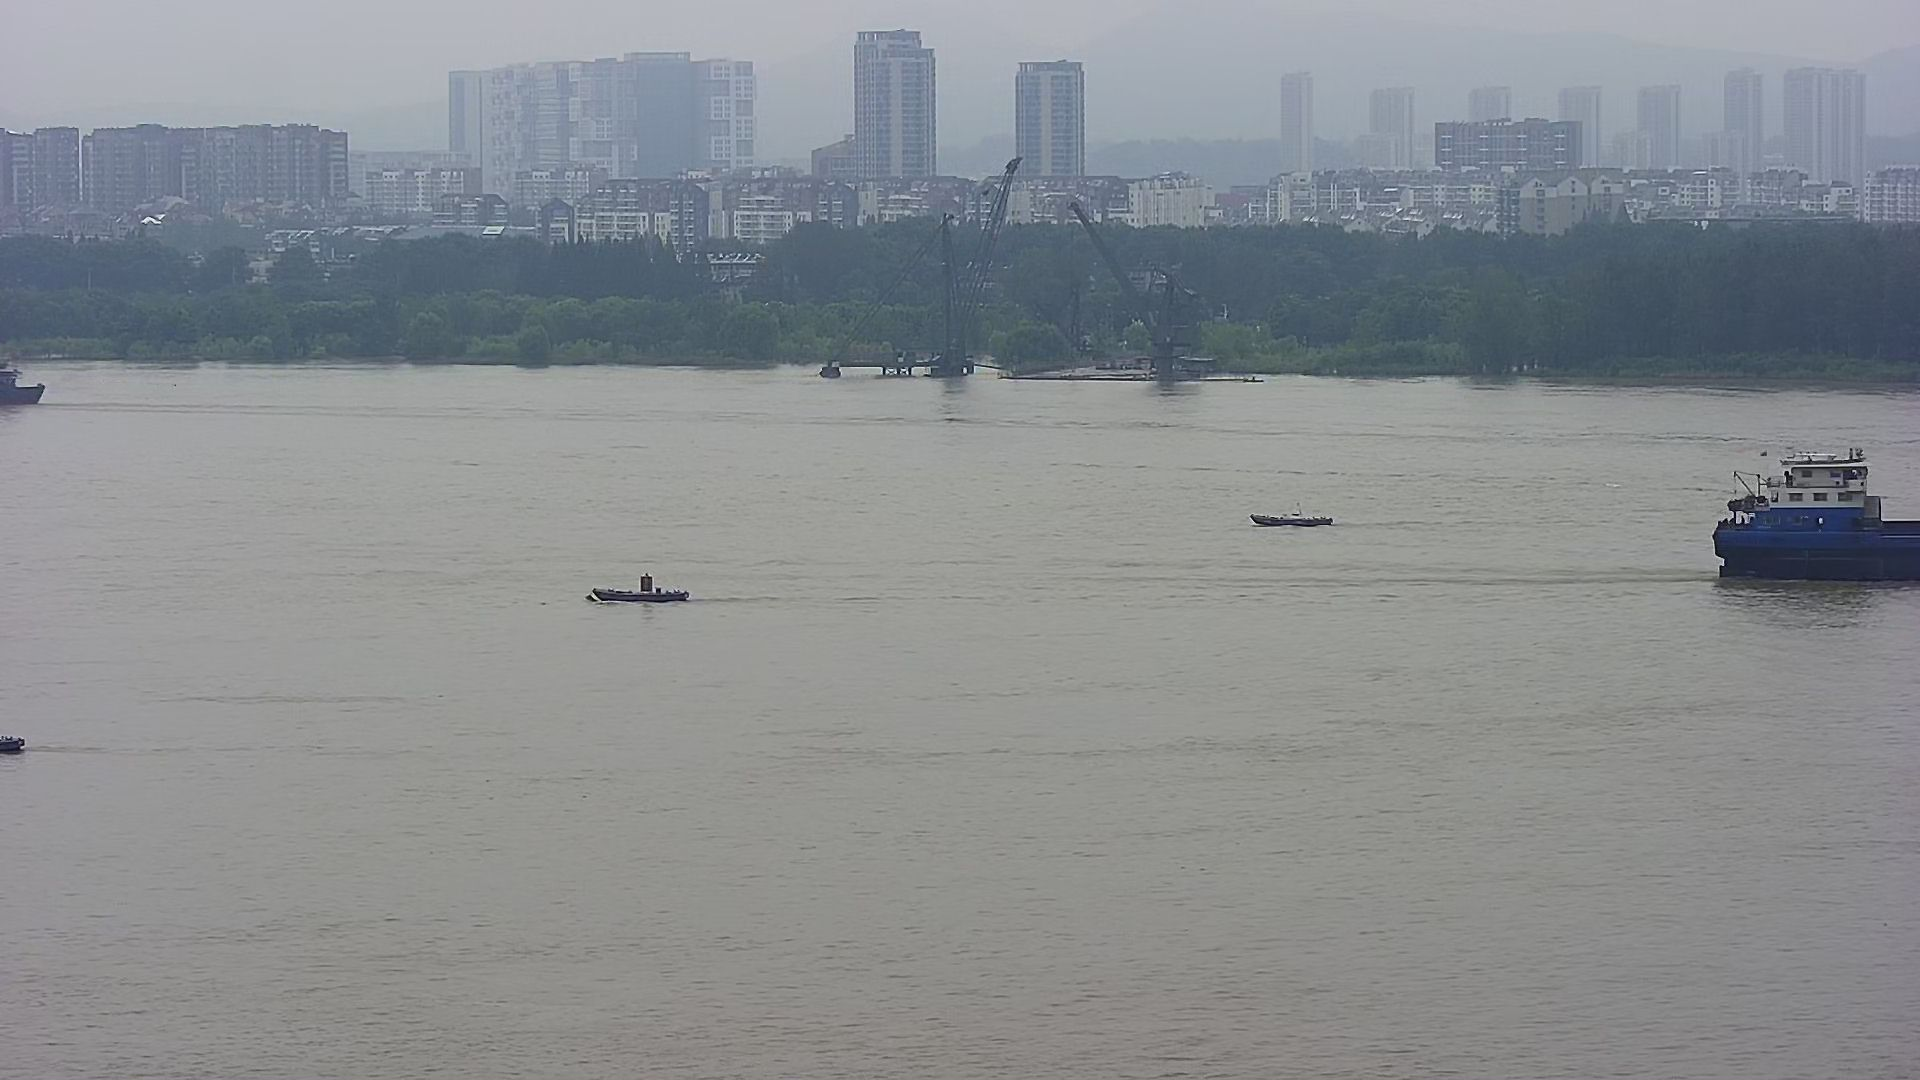boat: (587, 568, 696, 611), (1246, 498, 1341, 533), (1, 728, 24, 760)
harbor: (818, 342, 1262, 382)
ship: (1714, 440, 1920, 582), (1, 357, 46, 402)
